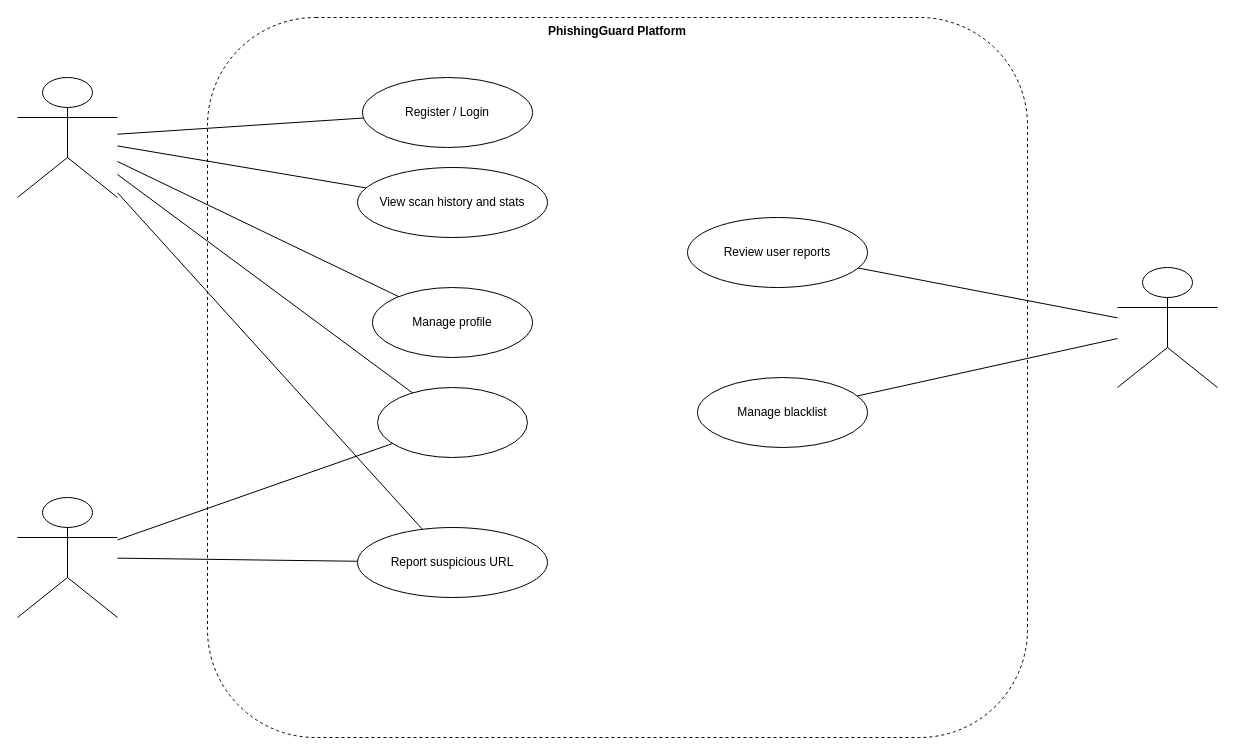
Some shapes in this 1235 by 755 pixel diagram are drawn without their labels. Each missing label, with the centre of its shape:
"Admin" belongs at (1167,327).
"Browser Extension" belongs at (67,557).
"General User" belongs at (67,137).
"Scan URL" belongs at (452,422).
